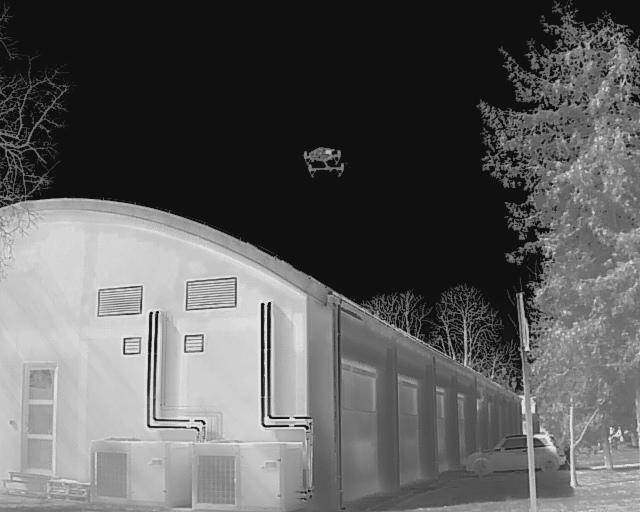drone: (295, 142, 351, 187)
